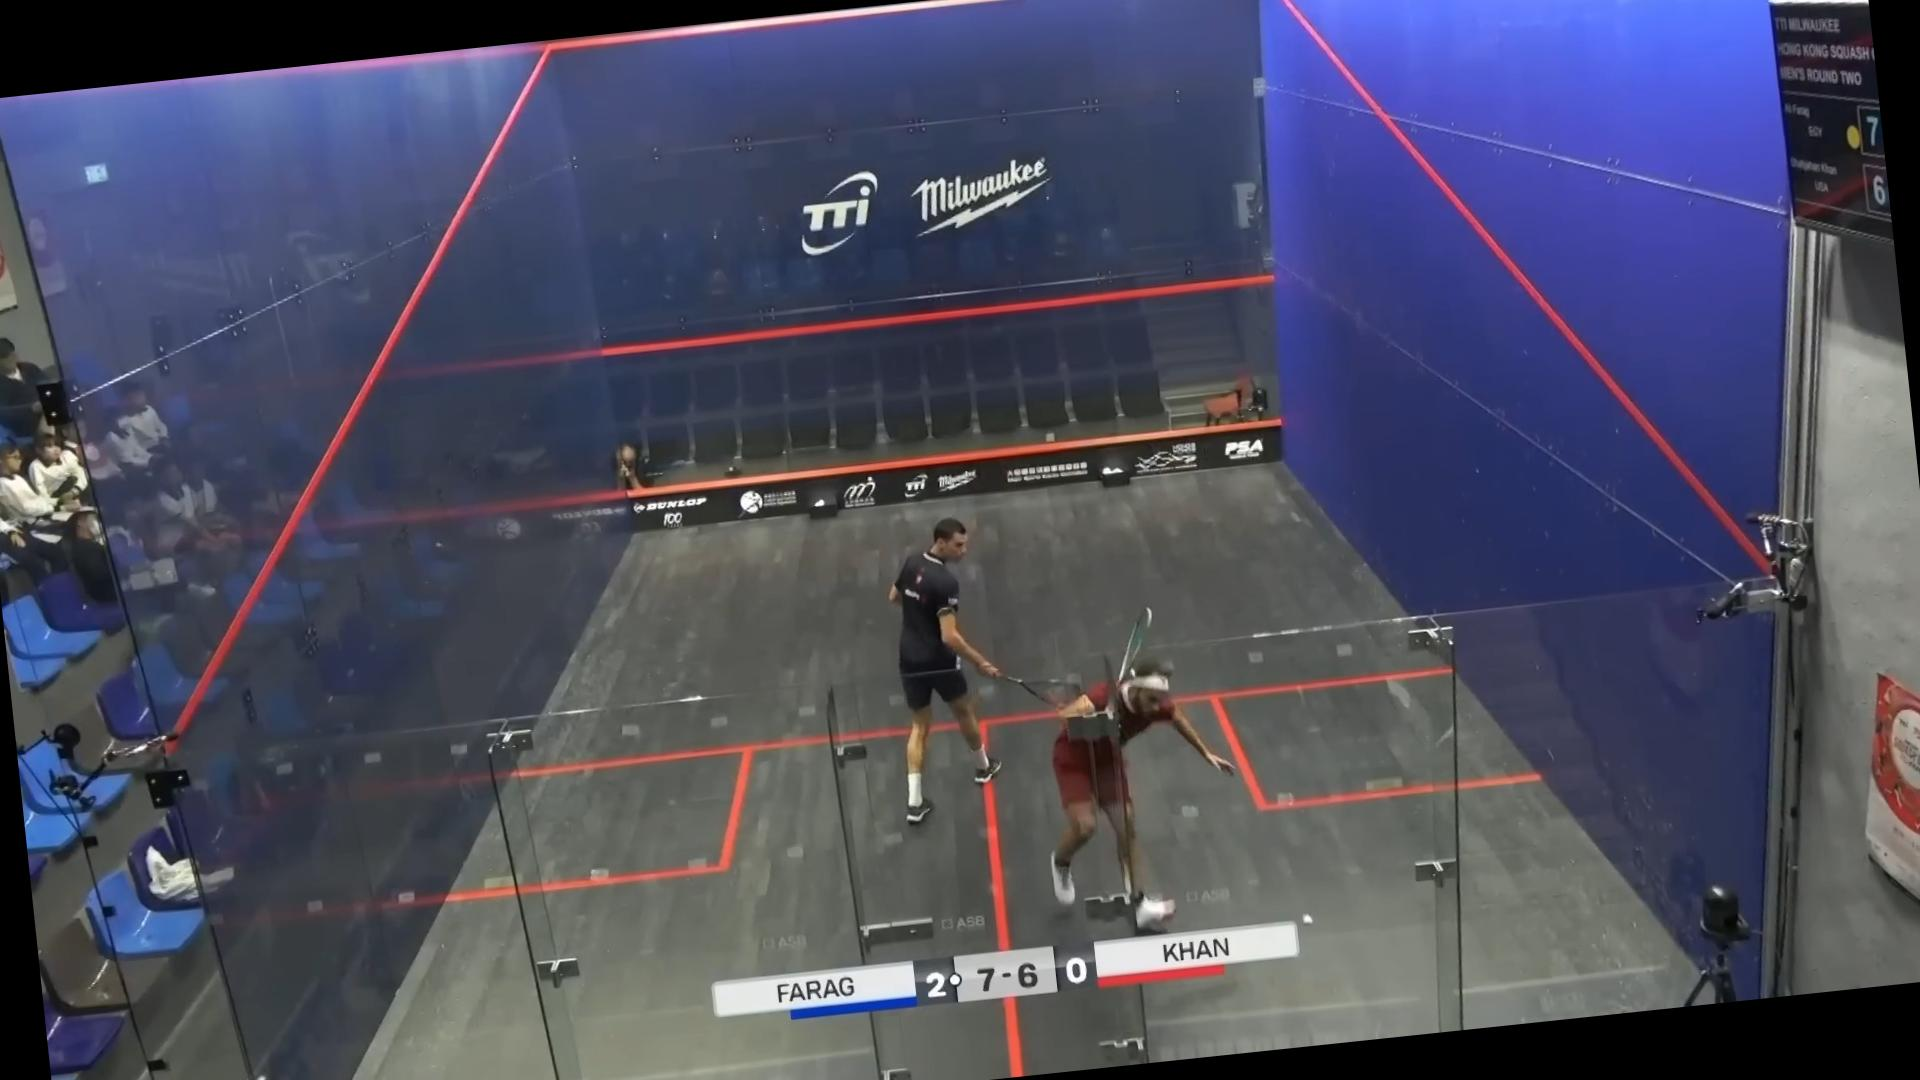Racket: (1098, 600, 1174, 719), (1011, 658, 1084, 708)
